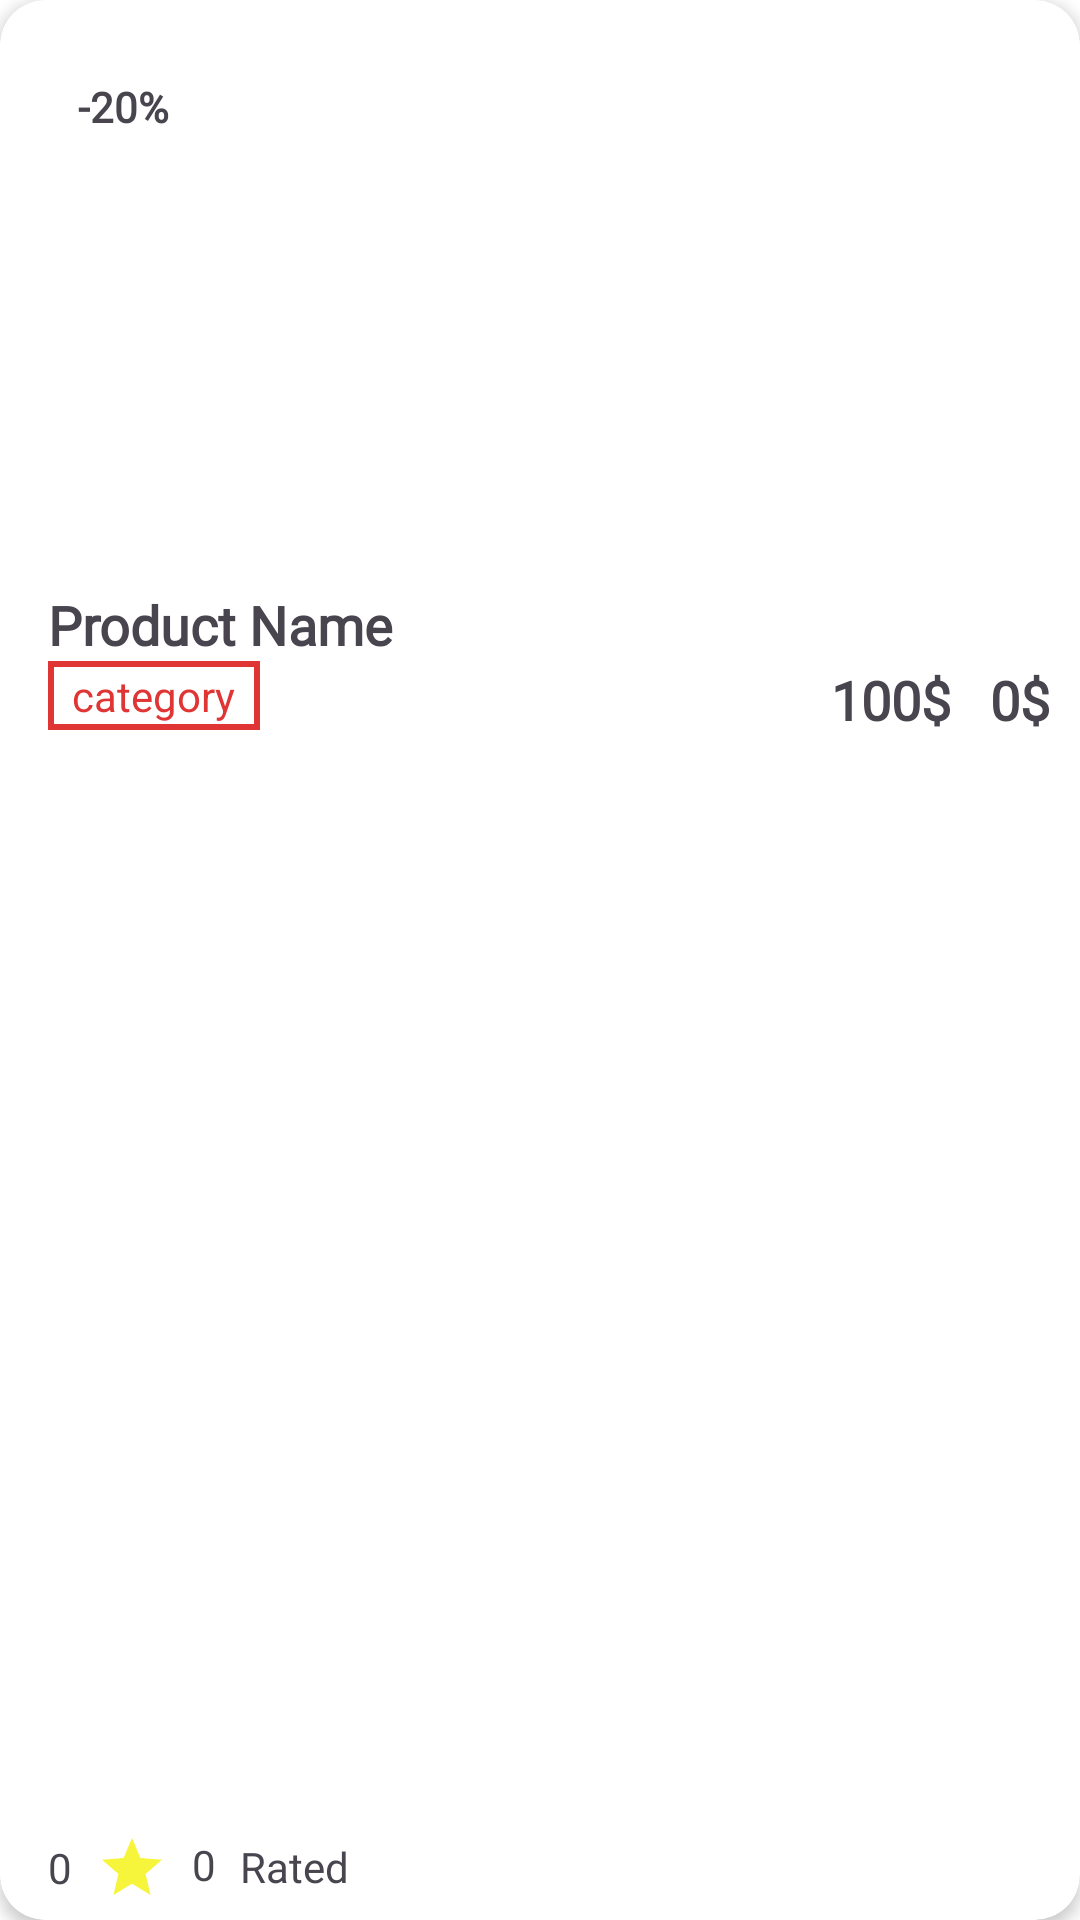

Screen size 1080*1920. Icon name, then its box in pixels as rect(x1, y1, x2, y2):
star: rect(102, 1838, 162, 1895)
